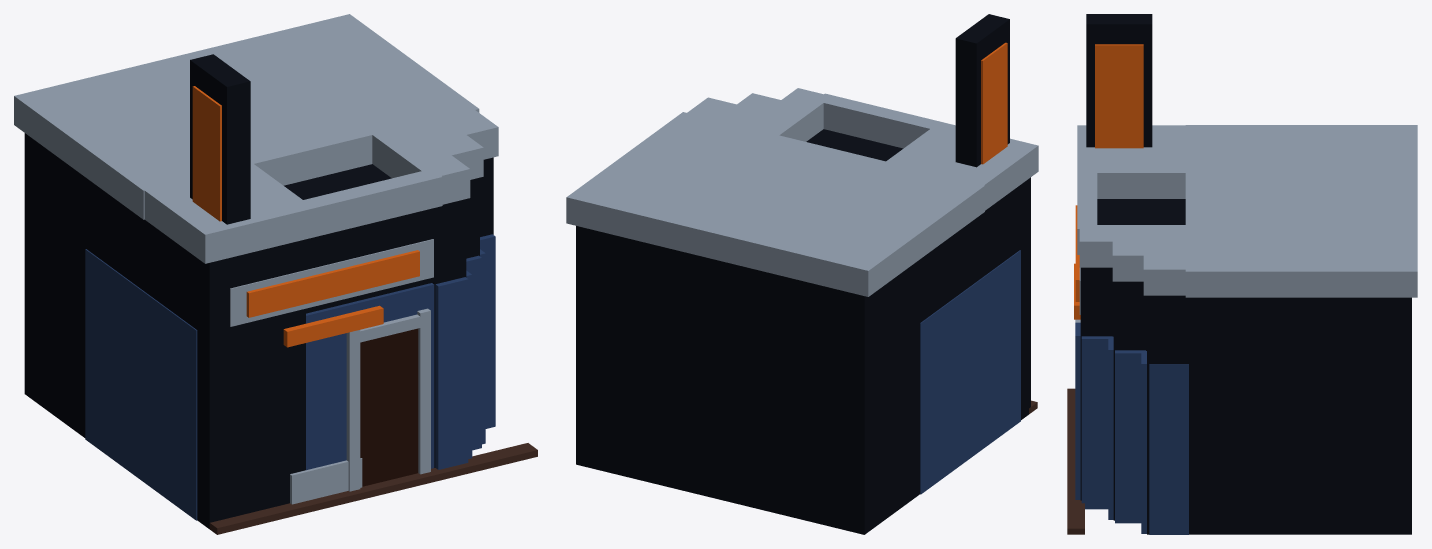
The model's file is shop2.obj.
The picture shows the model from 3 angles, left to right: view 1: azimuth 30°, elevation 25°; view 2: azimuth 150°, elevation 25°; view 3: azimuth 270°, elevation 25°; orthographic projection. The views are drawn at different scales.
Visible parts, largest first — view 1: parapet, shell, glazing, door, fin, door-surround, sign, pavement, fin-sign, fascia, shopfront-light, stallriser; view 2: shell, parapet, glazing, fin, fin-sign; view 3: shell, parapet, glazing, fin-sign, fin, pavement.
Part boxes in pixels (x1,y1,x2,y2): parapet: [14, 14, 498, 263]; shell: [24, 133, 493, 528]; glazing: [85, 234, 495, 520]; door: [360, 328, 418, 486]; fin: [190, 54, 250, 224]; door-surround: [346, 308, 430, 491]; sign: [246, 250, 419, 317]; pavement: [209, 443, 537, 534]; fin-sign: [192, 86, 221, 221]; fascia: [230, 239, 433, 326]; shopfront-light: [283, 305, 383, 347]; stallriser: [290, 458, 362, 504]; shell: [576, 129, 1030, 534]; parapet: [566, 88, 1038, 296]; glazing: [920, 250, 1020, 494]; fin: [955, 14, 1009, 167]; fin-sign: [981, 42, 1007, 164]; shell: [1080, 199, 1411, 534]; parapet: [1077, 125, 1417, 297]; glazing: [1075, 322, 1188, 534]; fin-sign: [1095, 44, 1143, 148]; fin: [1086, 14, 1152, 147]; pavement: [1067, 388, 1084, 534].
Bounding box in the file's own units: 3.14 × 3.89 × 3.17.
